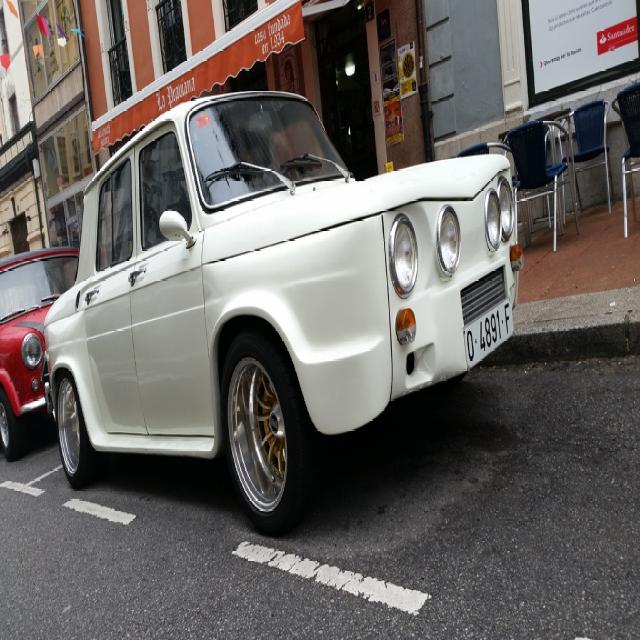car: (26, 94, 530, 525)
